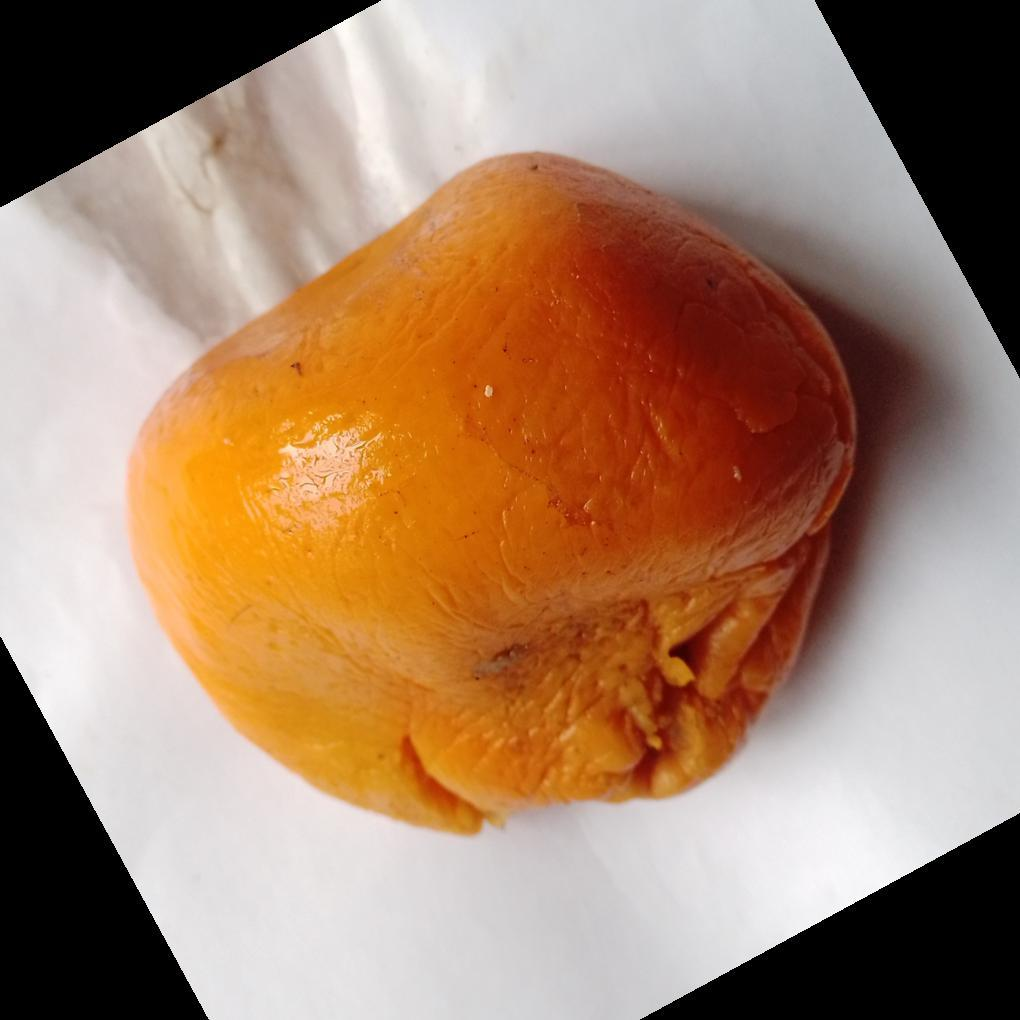FreshOrange: (121, 152, 859, 843)
